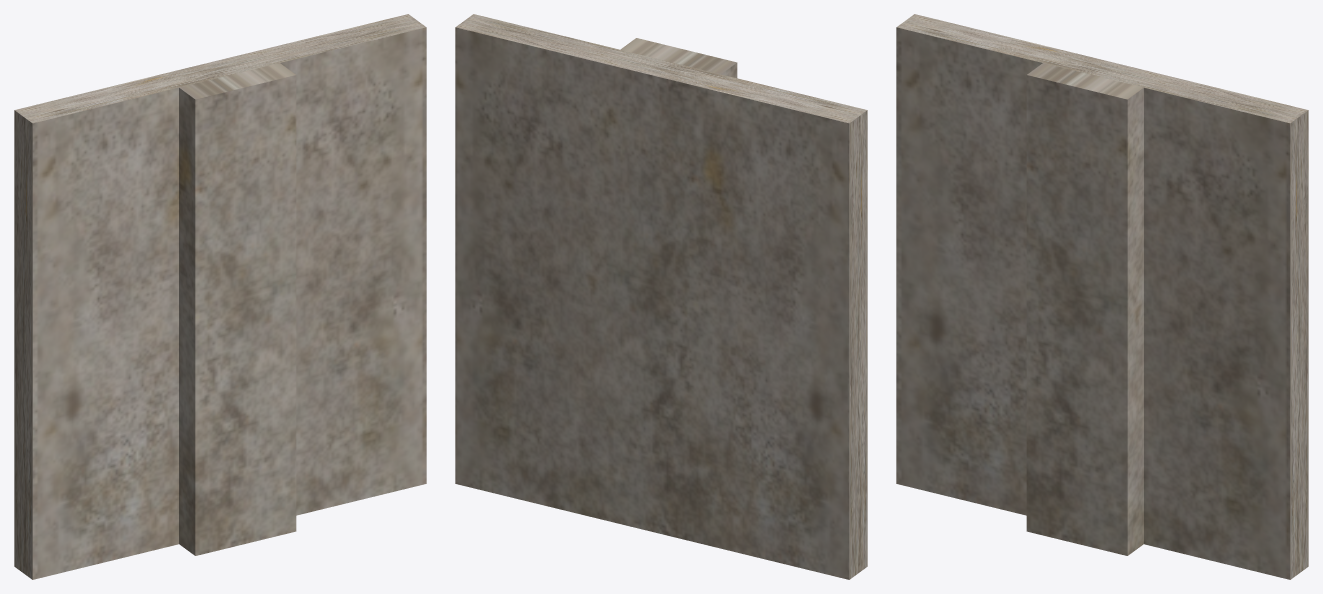
Rendered from WallSmall1.fbx.
The picture shows the model from 3 angles, left to right: view 1: azimuth 30°, elevation 25°; view 2: azimuth 150°, elevation 25°; view 3: azimuth 330°, elevation 25°; orthographic projection.
Visible parts, largest first — view 1: WallEmpty.001; view 2: WallEmpty.001; view 3: WallEmpty.001.
Boxes of the visible parts, bbox=[...] form: WallEmpty.001: bbox=[14, 14, 426, 579]; WallEmpty.001: bbox=[455, 14, 867, 579]; WallEmpty.001: bbox=[896, 14, 1308, 579].
Size of the model in its own units: 250 by 277 by 37.89.
